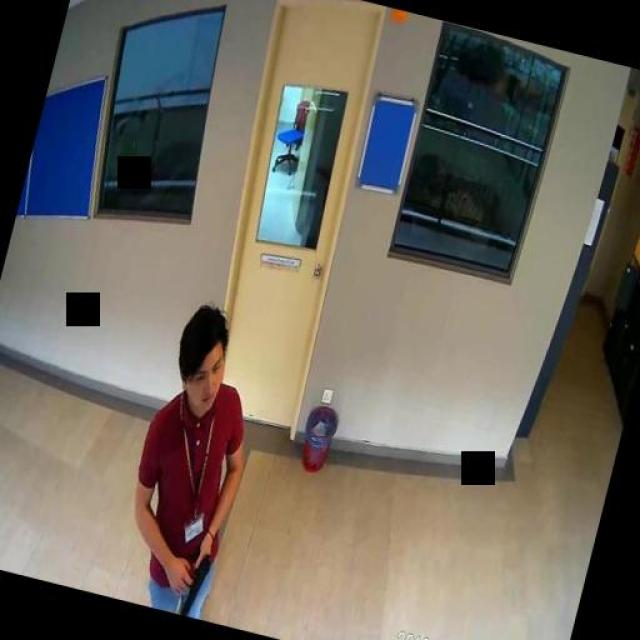gun: (178, 540, 214, 618)
